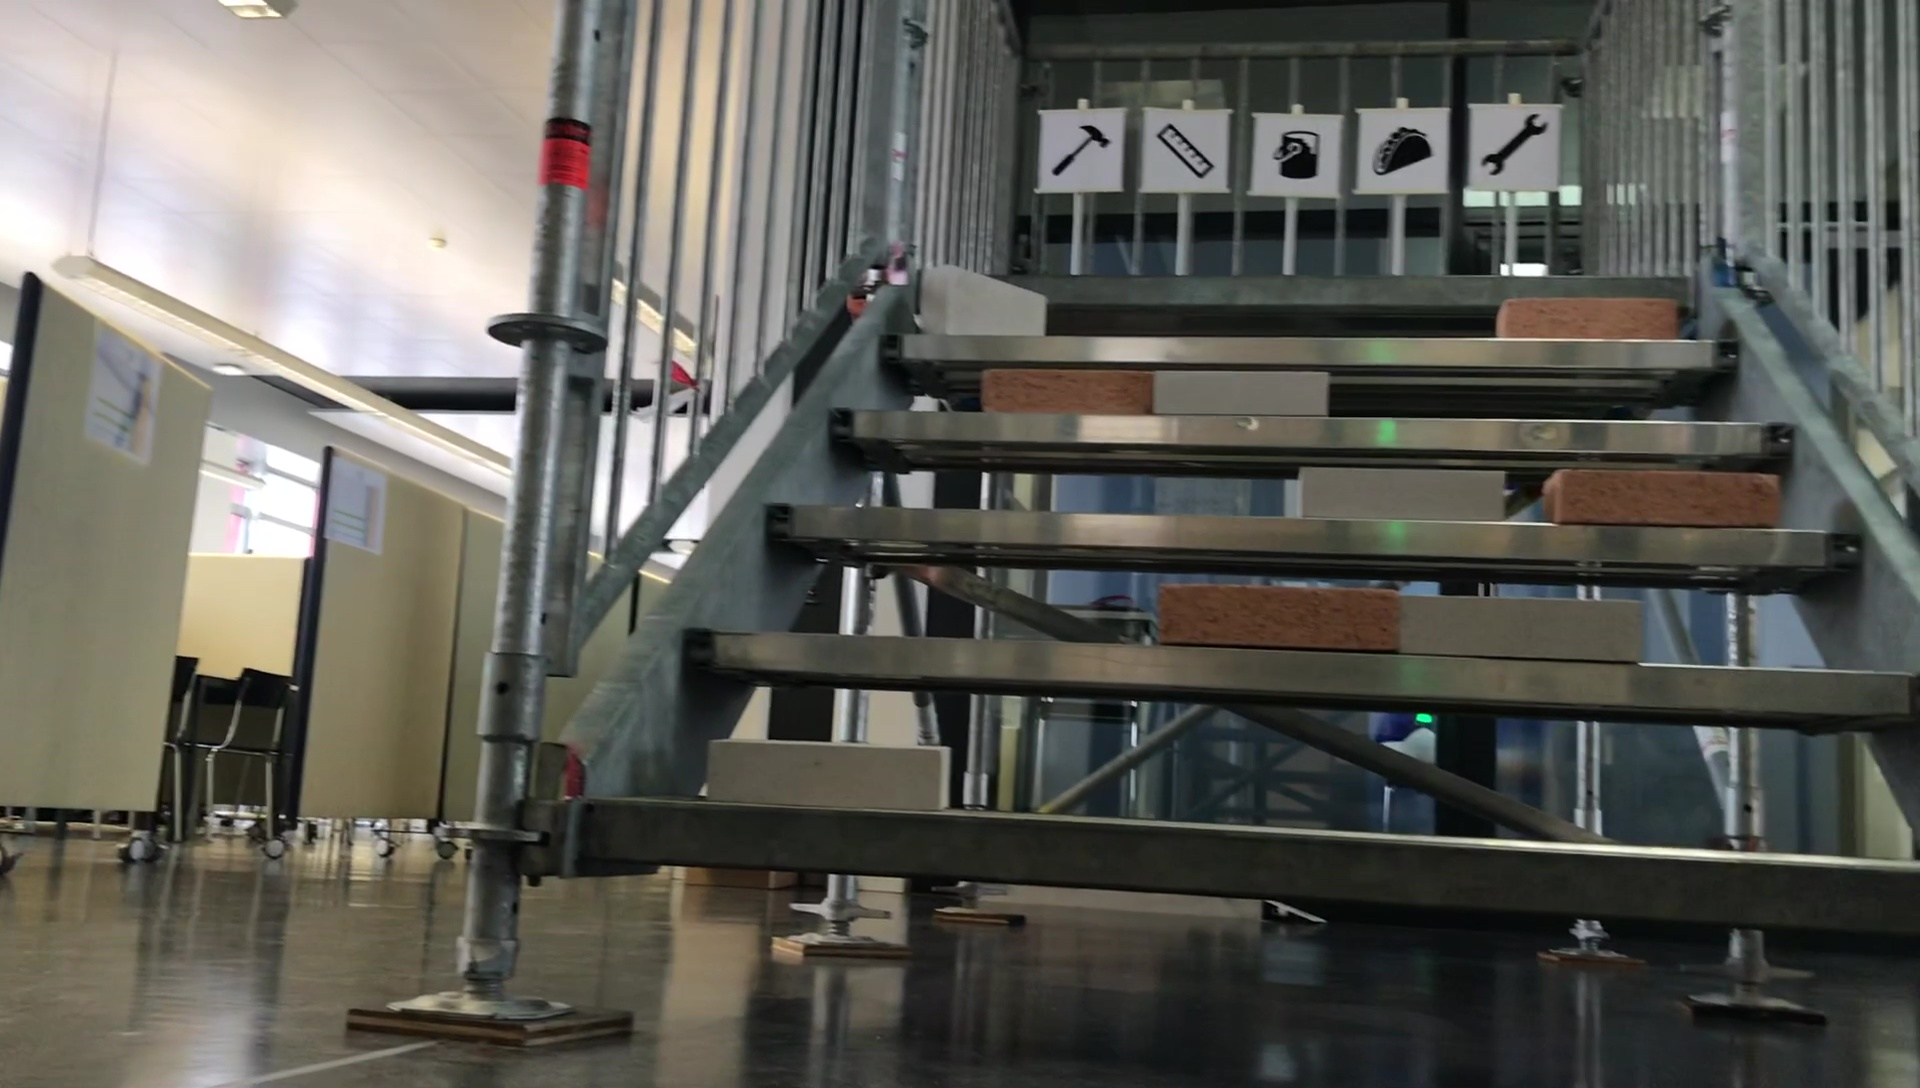brick: (702, 739, 969, 806), (1150, 587, 1398, 655), (1544, 464, 1793, 528), (1395, 600, 1644, 659), (1292, 471, 1509, 514), (1150, 367, 1332, 418), (916, 265, 1054, 331), (986, 368, 1150, 421), (1502, 299, 1691, 339)
bucket: (1269, 121, 1325, 179)
edge: (578, 797, 1920, 939), (680, 630, 1909, 717), (822, 408, 1797, 450), (757, 521, 1857, 554), (886, 339, 1738, 368), (960, 269, 1687, 299)
hammer: (1048, 123, 1109, 175)
ruler: (1156, 121, 1216, 178)
stairs: (429, 0, 1920, 1048)
steps: (541, 261, 1920, 880)
taco: (1367, 115, 1433, 175)
wrench: (1481, 109, 1548, 175)
